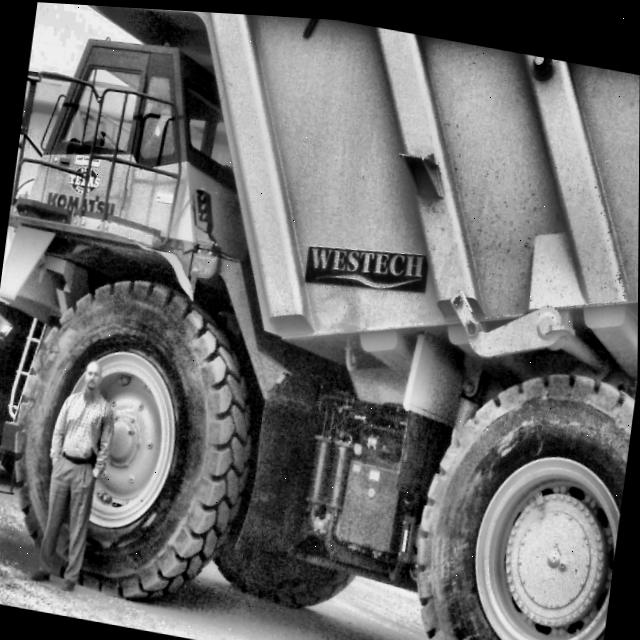dump_truck: (0, 0, 640, 640), (0, 34, 99, 527)
